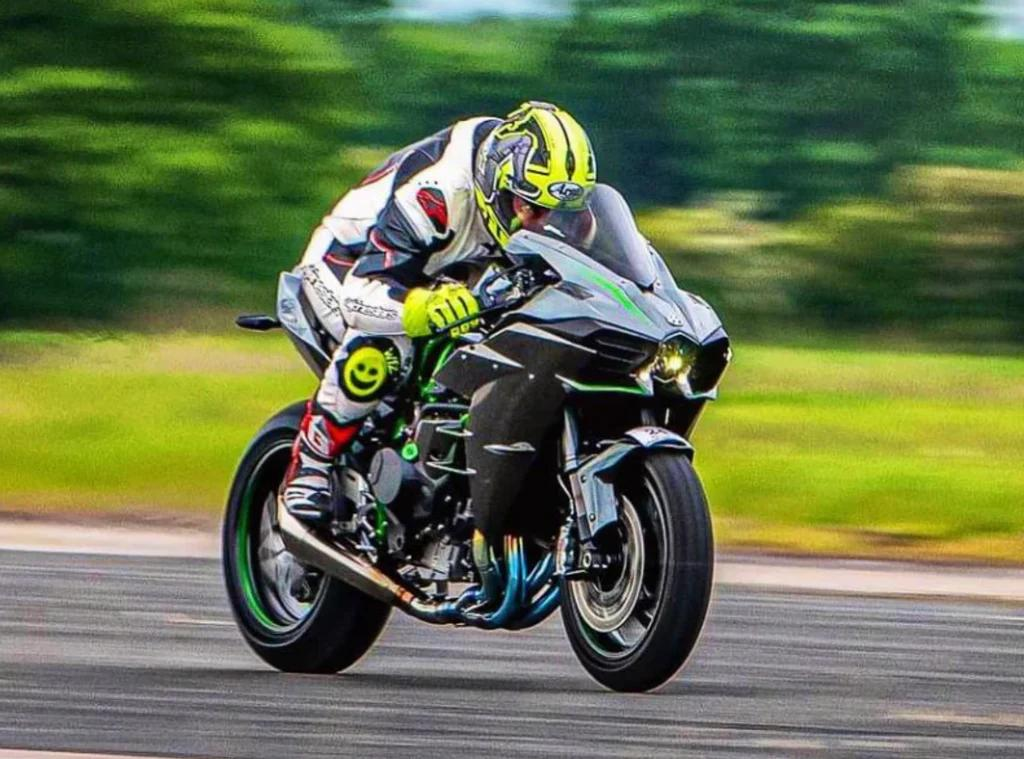motorcycle: (215, 181, 742, 701)
